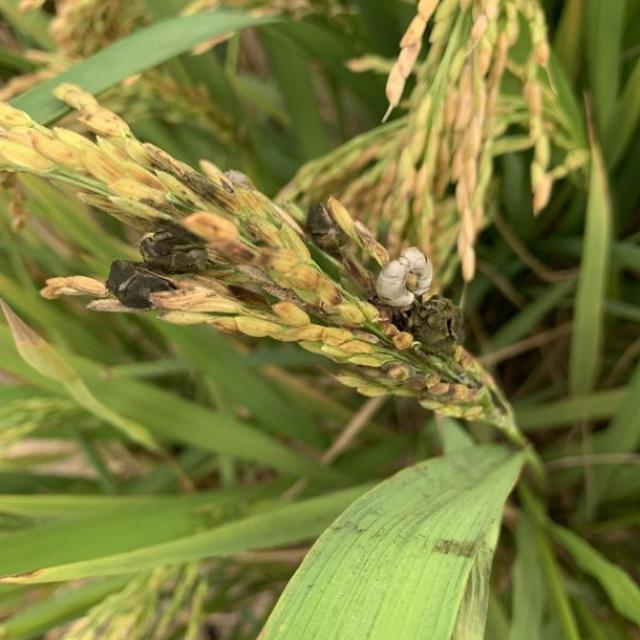Leaf_Scald: (374, 245, 463, 356), (107, 228, 209, 310), (304, 199, 357, 253)
